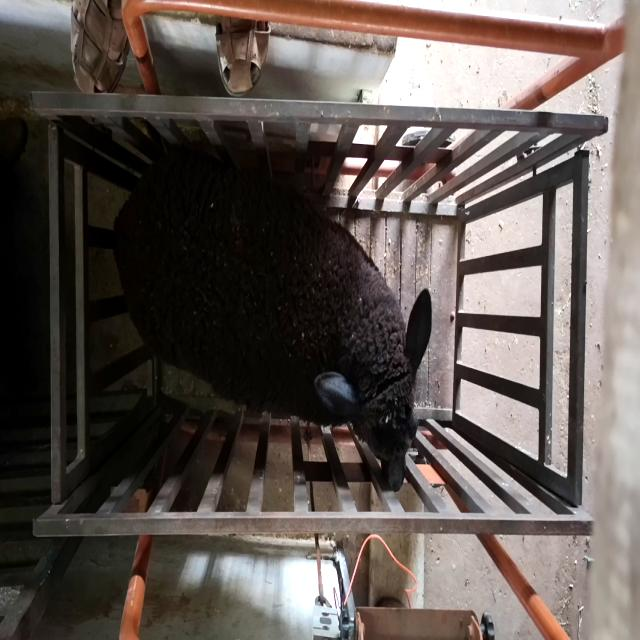sheep: (112, 147, 432, 493)
